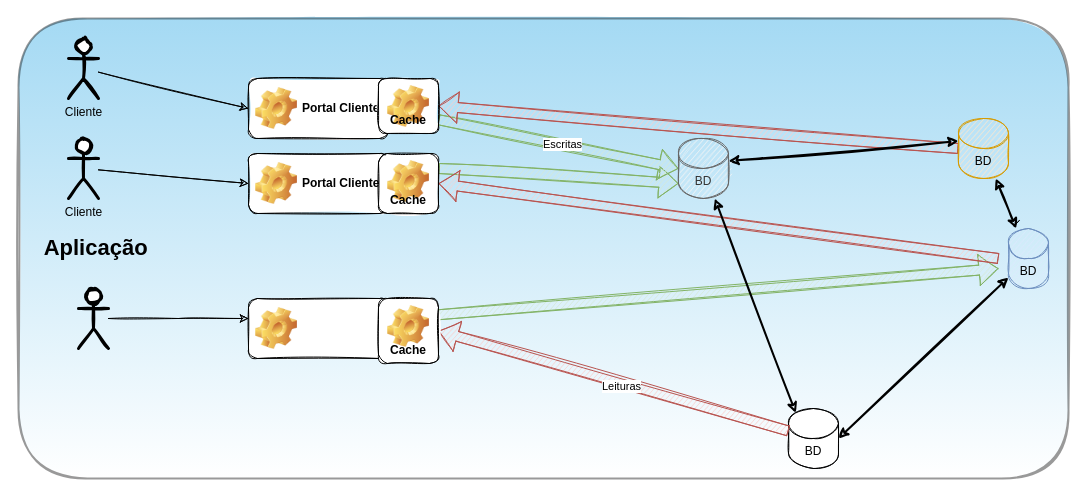
The diagram is 1086 pixels wide and 496 high, and some of its shapes have lost their labels. Here are the shapes that lost their labels. From the top down, the centre of each, then its label:
At pixel 93 318: "Administrador".
At pixel 318 328: "Portal Admin".
